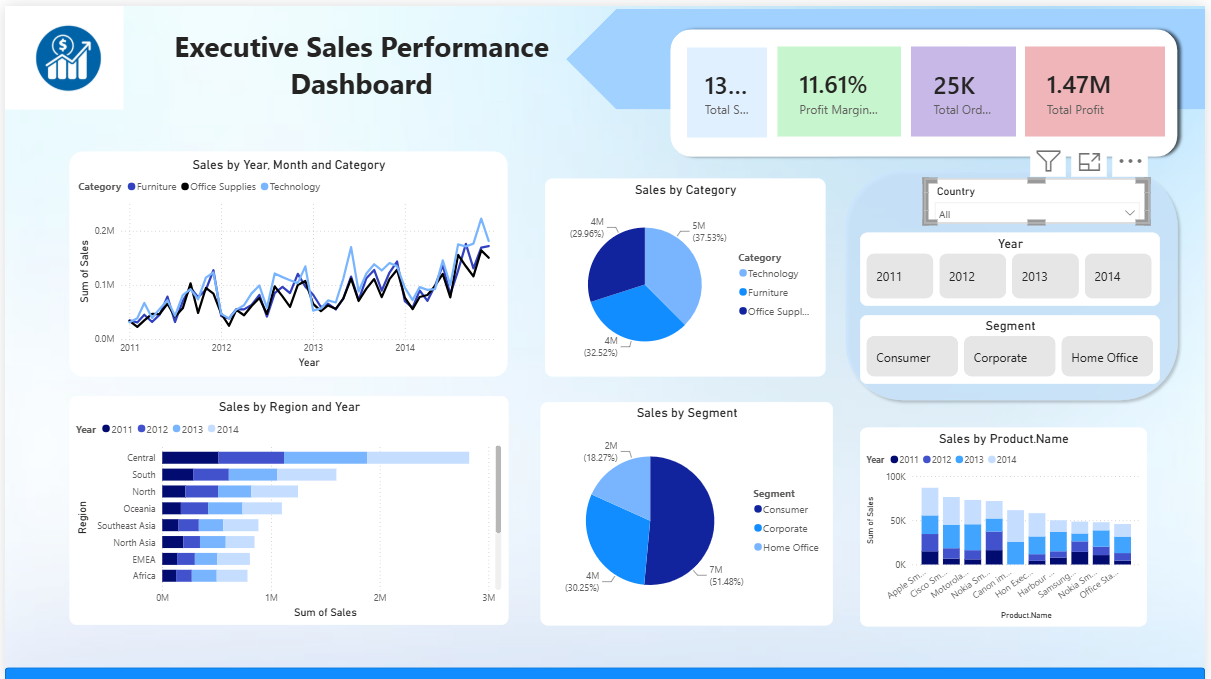

Layout of this report page (visuals, bound fields, positions):
{"tool":"powerbi","page":{"name":"Page 1","canvas":[1600,900],"ordinal":0},"visuals":[{"type":"barChart","title":"Sales by Region and Year","fields":{"Category":["Fact_Sales.Region"],"Y":["Sum(Fact_Sales.Sales)"],"Series":["Dim_Date.Year"]},"box":[85,520,585,305],"z":0},{"type":"lineChart","title":"Sales by Year, Month and Category","fields":{"Y":["Sum(Fact_Sales.Sales)"],"Series":["Dim_Product.Category"],"Category":["Dim_Date.Order.Date.Variation.Date Hierarchy.Year","Dim_Date.Order.Date.Variation.Date Hierarchy.Month"]},"box":[86,194,584,300],"z":1000},{"type":"pieChart","title":"Sales by Category","fields":{"Category":["Dim_Product.Category"],"Y":["Sum(Fact_Sales.Sales)"]},"box":[720,230,374,264],"z":2000},{"type":"shape","box":[0,0,158,138],"z":2500},{"type":"columnChart","title":"Sales by Product.Name","fields":{"Category":["Dim_Product.Product.Name"],"Y":["Sum(Fact_Sales.Sales)"],"Series":["Dim_Date.Year"]},"box":[1140,562.5,382.5,265],"z":3000},{"type":"shape","box":[748,4,852,134],"z":4000},{"type":"textbox","box":[157.5,22.5,635,115],"z":5000},{"type":"image","box":[12.5,22.5,145,95],"z":6000},{"type":"shape","box":[878,22,694,188],"z":7000},{"type":"cardVisual","fields":{"Data":["measure.Profit Margin %"]},"box":[1030.7,54.4,164.4,120],"z":8000},{"type":"cardVisual","fields":{"Data":["measure.Total Orders"]},"box":[1208.5,54.4,140,120],"z":9000},{"type":"shape","box":[1112,210,460,324],"z":9500},{"type":"cardVisual","fields":{"Data":["measure.Total Profit"]},"box":[1360.7,54.4,186.7,120],"z":10000},{"type":"cardVisual","fields":{"Data":["measure.Total Sales"]},"box":[904.6,49.2,117.5,130],"z":11000},{"type":"pieChart","title":"Sales by Segment","fields":{"Category":["Dim_Customer.Segment"],"Y":["Sum(Fact_Sales.Sales)"]},"box":[714,528,390,298],"z":12000},{"type":"advancedSlicerVisual","fields":{"Values":["Dim_Customer.Segment"]},"box":[1140,412,400,92],"z":13000},{"type":"advancedSlicerVisual","fields":{"Values":["Dim_Date.Year"]},"box":[1140,302,400,98],"z":14000},{"type":"slicer","title":"country","fields":{"Values":["Dim_Geograhy.Country"]},"box":[1226,230,300,60],"z":15000},{"type":"shape","box":[0,882,1600,18],"z":17000}]}

Visuals, with their boxes in screenshot pixels (x1, y1, x2, y2), scaled from the page's 1600x900 canvas onto the 1211x679 screenshot:
"Sales by Region and Year" barChart: box(64, 392, 507, 622)
"Sales by Year, Month and Category" lineChart: box(65, 146, 507, 373)
"Sales by Category" pieChart: box(545, 174, 828, 373)
shape: box(0, 0, 120, 104)
"Sales by Product.Name" columnChart: box(863, 424, 1152, 624)
shape: box(566, 3, 1210, 104)
textbox: box(119, 17, 600, 104)
image: box(9, 17, 119, 89)
shape: box(665, 17, 1190, 158)
cardVisual - measure.Profit Margin %: box(780, 41, 905, 132)
cardVisual - measure.Total Orders: box(915, 41, 1021, 132)
shape: box(842, 158, 1190, 403)
cardVisual - measure.Total Profit: box(1030, 41, 1171, 132)
cardVisual - measure.Total Sales: box(685, 37, 774, 135)
"Sales by Segment" pieChart: box(540, 398, 836, 623)
advancedSlicerVisual - Dim_Customer.Segment: box(863, 311, 1166, 380)
advancedSlicerVisual - Dim_Date.Year: box(863, 228, 1166, 302)
"country" slicer: box(928, 174, 1155, 219)
shape: box(0, 665, 1210, 678)
